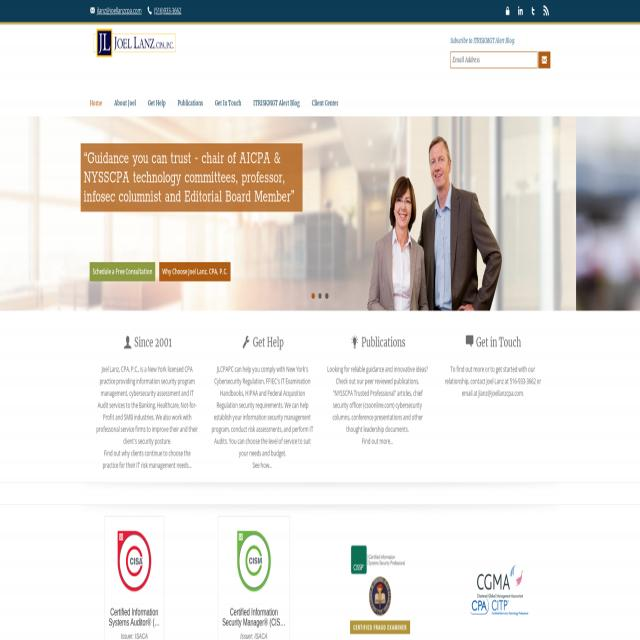button: (90, 24, 180, 62), (470, 563, 530, 614), (253, 89, 312, 116), (159, 262, 231, 282), (90, 262, 155, 282), (215, 89, 253, 116), (312, 89, 350, 116), (178, 89, 215, 116), (114, 89, 148, 116), (148, 89, 178, 116), (90, 89, 114, 116), (503, 0, 512, 22), (516, 0, 525, 22), (538, 52, 550, 68), (529, 0, 537, 22), (542, 0, 550, 22)
field: (450, 52, 538, 68)
